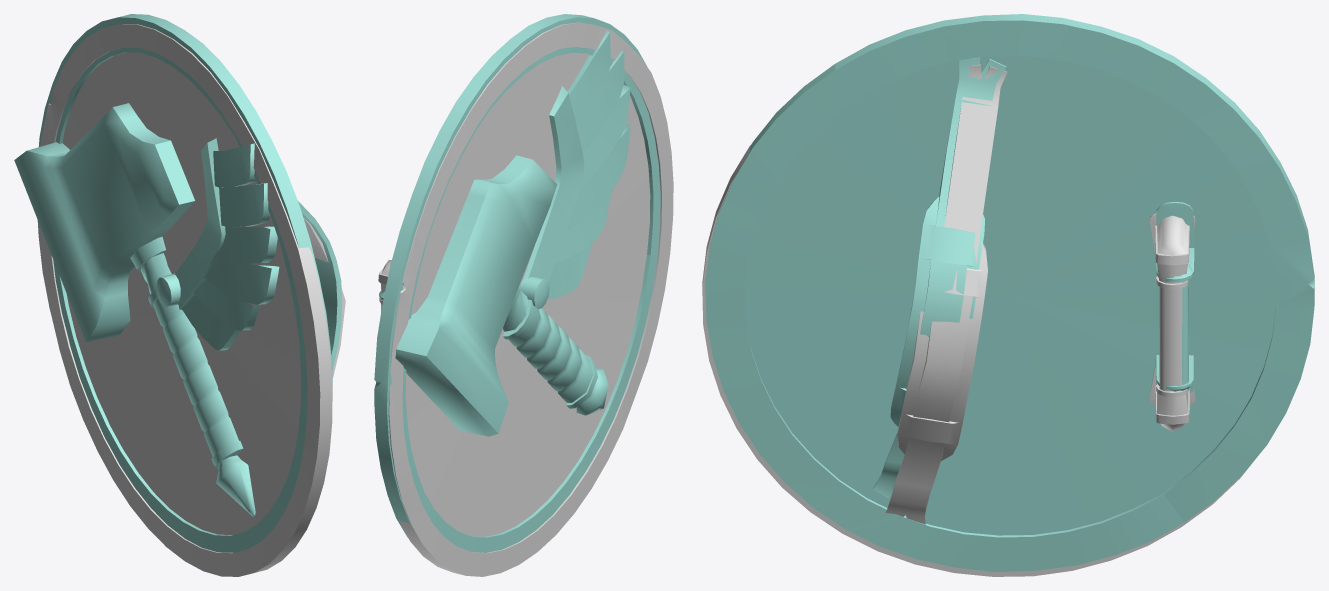
The model's file is Bardin_dwarf_shield_heroClean_KarakNorn01_mesh_3p.fbx.
3 views of the same model, side by side, from view 1: azimuth 30°, elevation 25°; view 2: azimuth 150°, elevation 25°; view 3: azimuth 270°, elevation 25° (orthographic). The views are drawn at different scales.
Parts seen in each view (by area): view 1: Bardin_shield_02_mesh, 8767C68C; view 2: Bardin_shield_02_mesh, 8767C68C; view 3: 8767C68C, Bardin_shield_02_mesh.
Boxes of the visible parts, x1=… form: Bardin_shield_02_mesh: x1=38, y1=24, x2=345, y2=576; 8767C68C: x1=14, y1=14, x2=341, y2=552; Bardin_shield_02_mesh: x1=378, y1=22, x2=673, y2=576; 8767C68C: x1=374, y1=14, x2=660, y2=552; 8767C68C: x1=705, y1=14, x2=1314, y2=571; Bardin_shield_02_mesh: x1=702, y1=64, x2=1254, y2=576.
Bounding box in the file's own units: 21.61 × 68.94 × 68.67.
